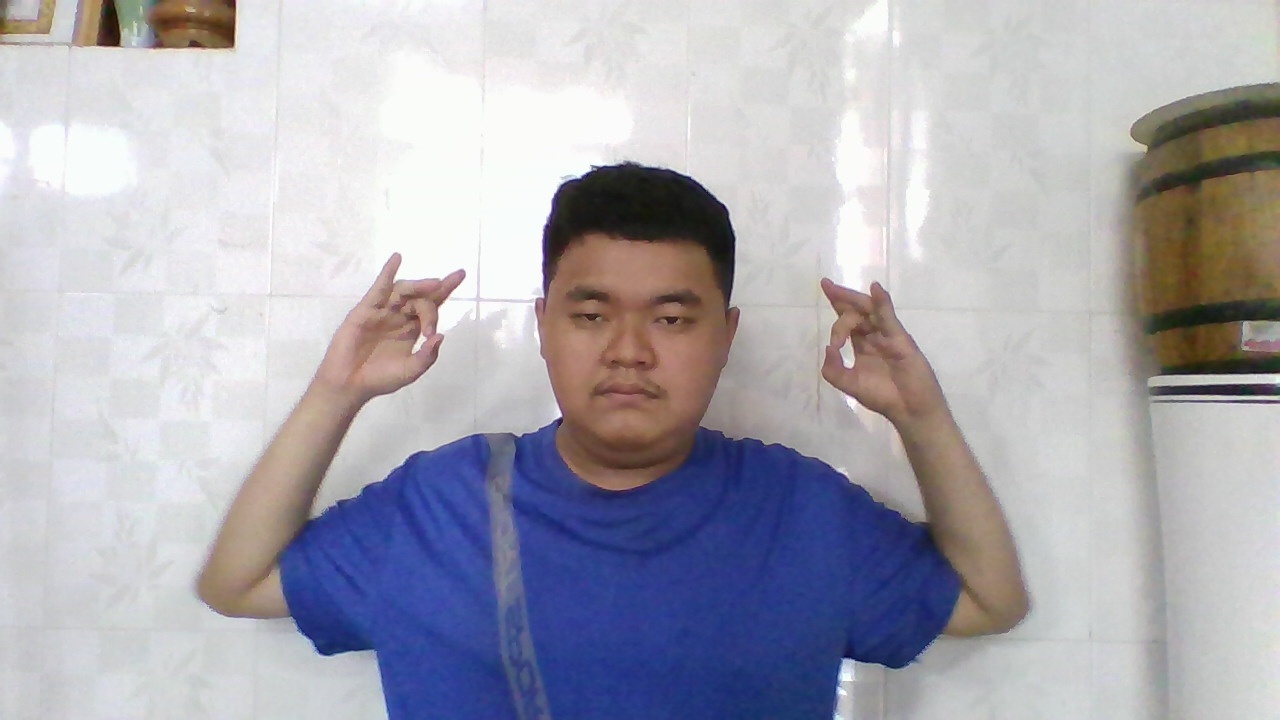H: (330, 242, 476, 407), (809, 267, 926, 427)
